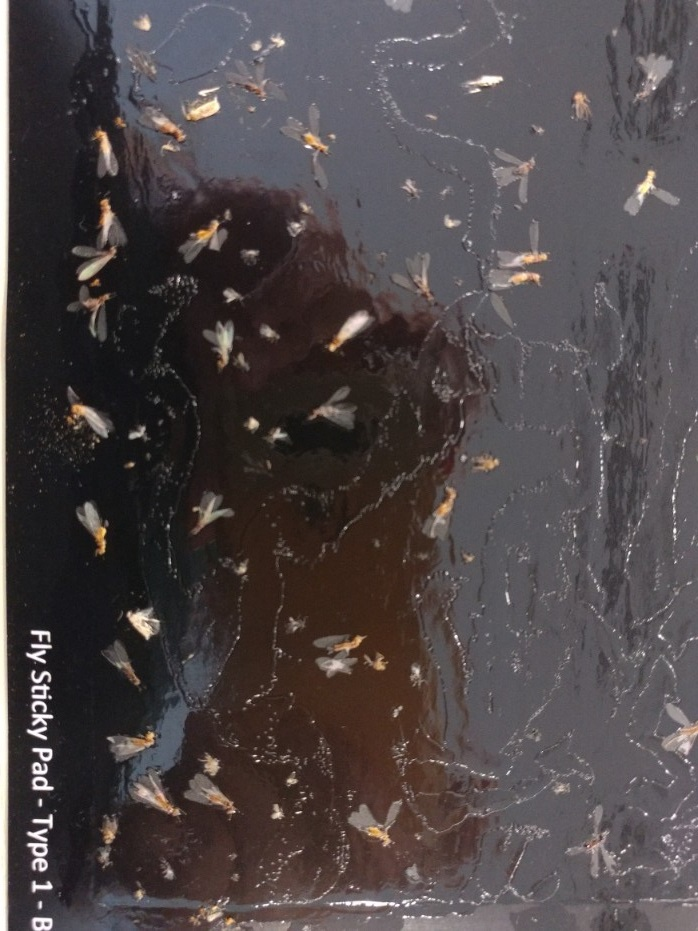termite: (122, 768, 200, 834), (179, 764, 260, 825), (485, 224, 561, 268), (474, 261, 553, 301), (75, 498, 125, 559), (319, 304, 376, 356), (102, 717, 164, 760)
